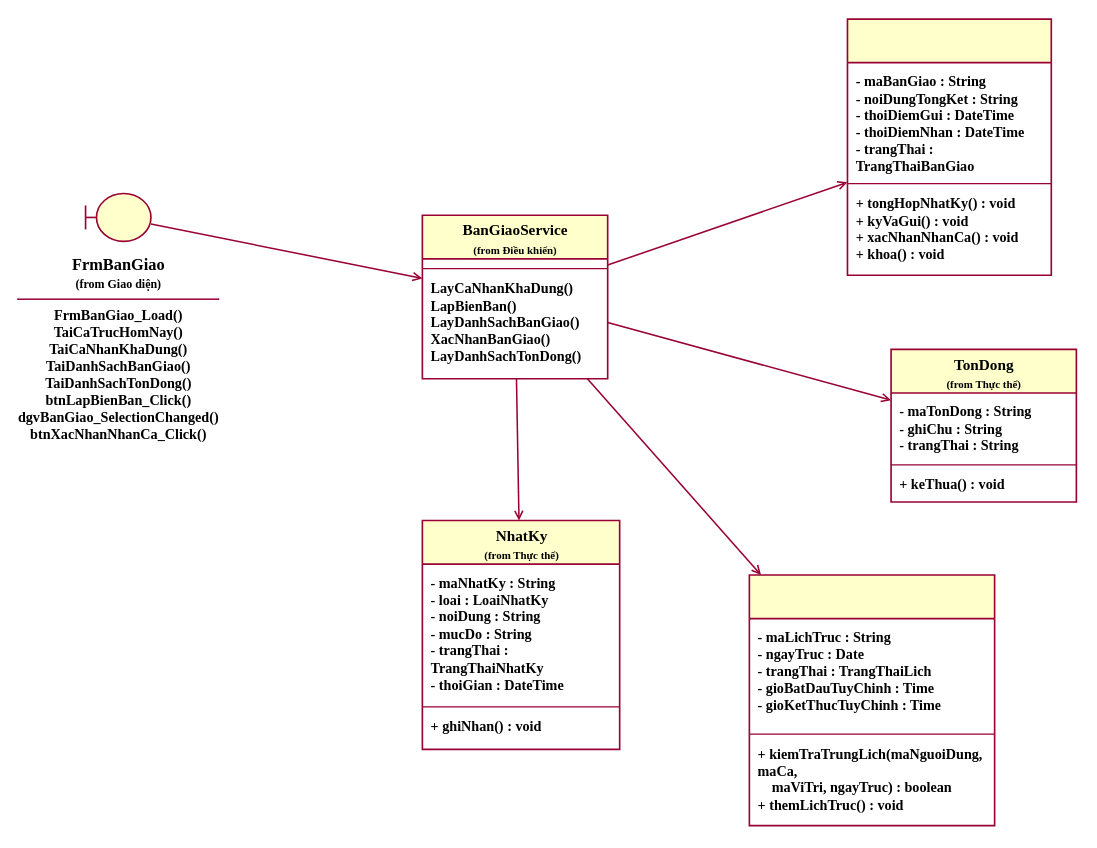
Image size: 1097x848. Some labels were removed from this diagram. The box of each missing label's shape, as (x1, y1, x2, y2) in pixels:
BanGiao (from Thực thể): (846, 18, 1052, 276)
LichTruc (from Thực thể): (748, 574, 995, 826)
